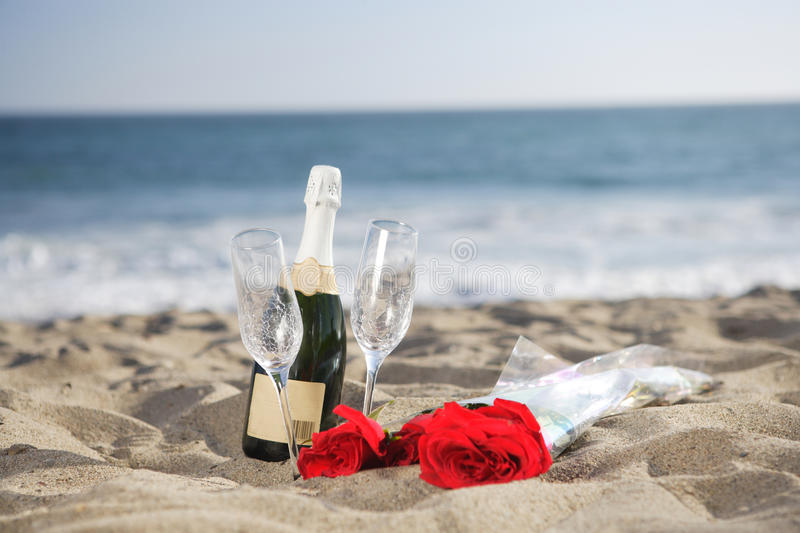RedRose: (428, 396, 558, 487), (295, 401, 390, 484), (378, 413, 438, 468)
